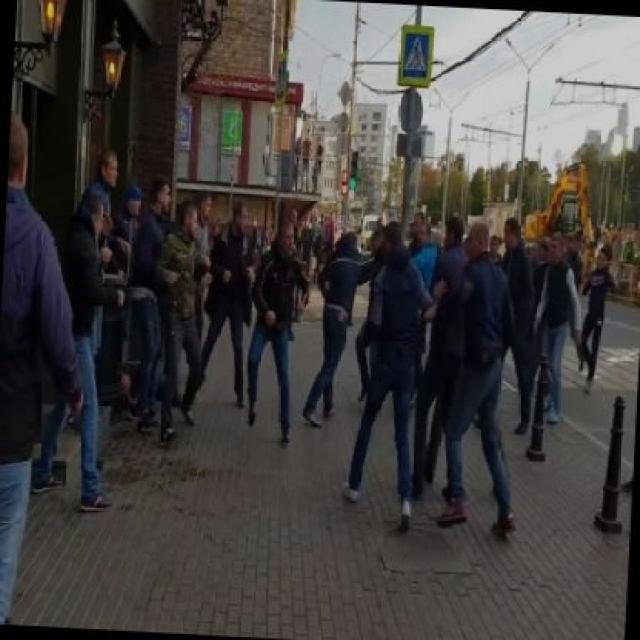fight: (303, 222, 402, 427)
non-fight: (0, 114, 80, 621), (428, 220, 520, 532), (343, 230, 432, 523), (42, 193, 121, 503), (245, 214, 313, 446), (154, 199, 212, 443), (192, 204, 258, 413), (528, 238, 581, 418), (577, 250, 616, 387), (298, 213, 325, 285)
